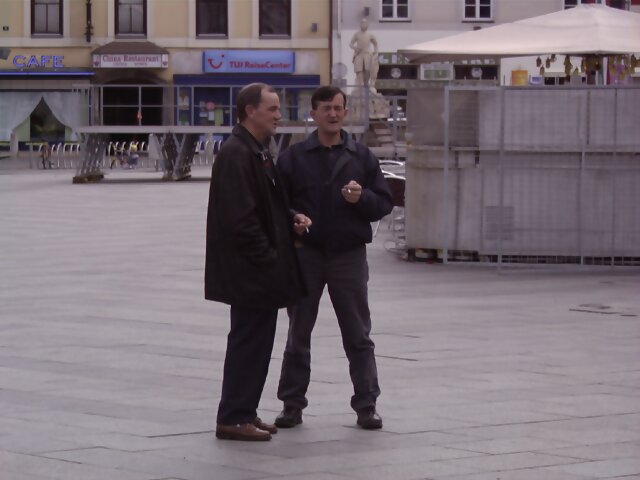person: (276, 86, 392, 421), (208, 78, 293, 437)
